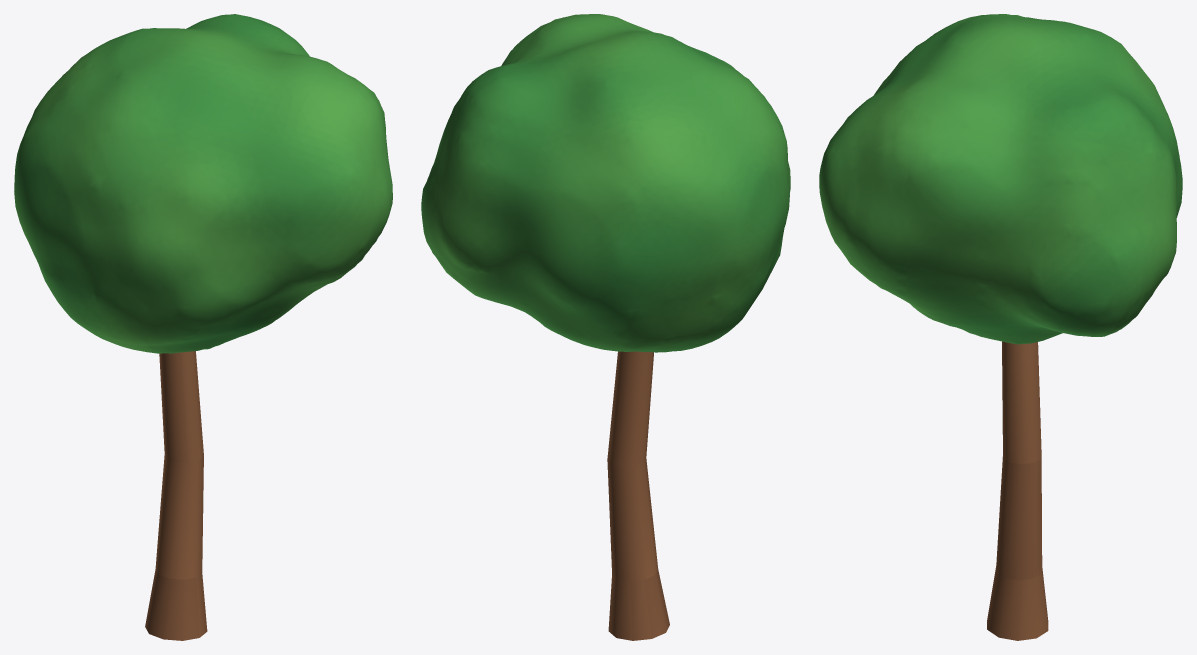
File: tree_round.glb
3 views of the same model, side by side, from view 1: azimuth 30°, elevation 25°; view 2: azimuth 150°, elevation 25°; view 3: azimuth 270°, elevation 25° (orthographic). The views are drawn at different scales.
Visible parts, largest first — view 1: tree_round_crown, tree_round_trunk; view 2: tree_round_crown, tree_round_trunk; view 3: tree_round_crown, tree_round_trunk.
Boxes of the visible parts, x1=… form: tree_round_crown: x1=14, y1=14, x2=392, y2=353; tree_round_trunk: x1=145, y1=351, x2=207, y2=640; tree_round_crown: x1=421, y1=14, x2=790, y2=352; tree_round_trunk: x1=607, y1=351, x2=669, y2=640; tree_round_crown: x1=819, y1=14, x2=1182, y2=344; tree_round_trunk: x1=987, y1=341, x2=1048, y2=640.
Bounding box in the file's own units: 2.44 × 4.35 × 2.37.
